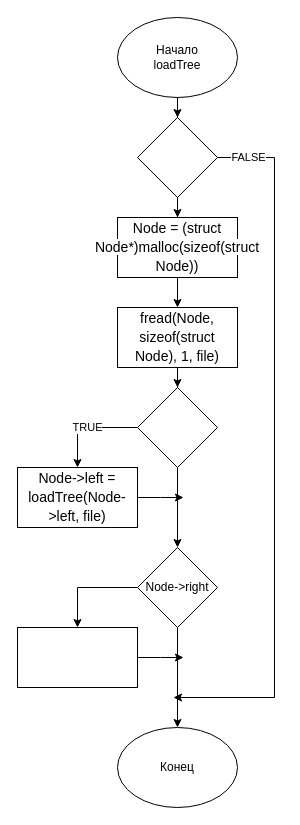
This 300x825 diagram has some shape labels left out. The centre of each missing label's shape, as x and y in pixels:
"!feof(file)" goes at (177,157).
"Node->left" goes at (177,427).
"Node->right = loadTree(Node->right, file)" goes at (77,657).
